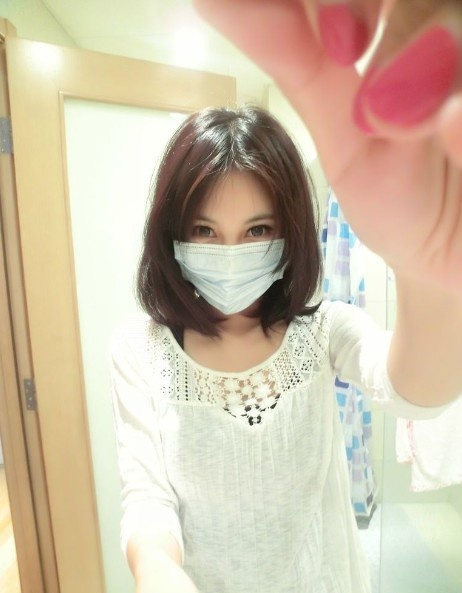face_mask: (180, 182, 281, 313)
